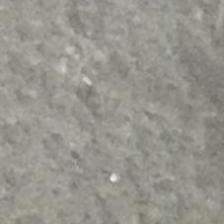Non_Crack: (12, 17, 196, 209)
